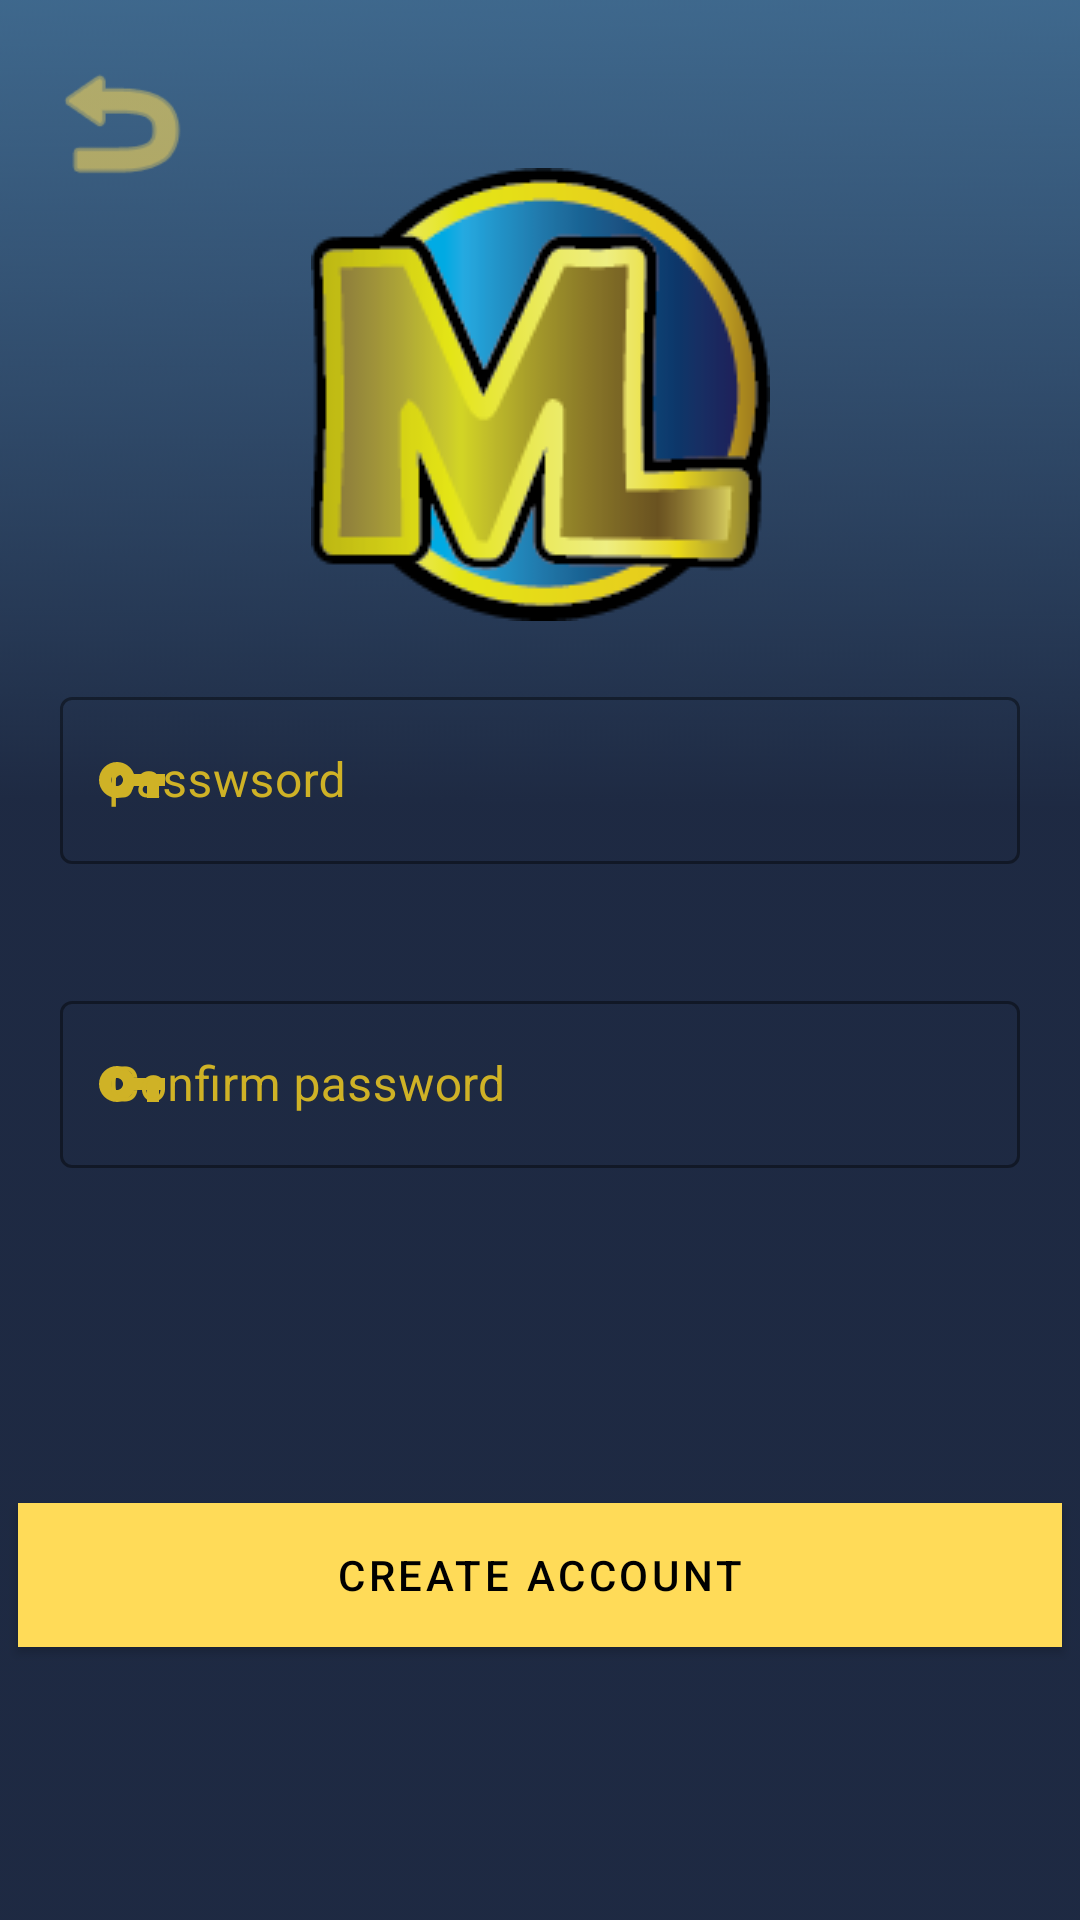

Screen size 1080*1920. Icon name, then its box in pixels as (x1,y1,x2,y2):
revert: (65,75,180,173)
